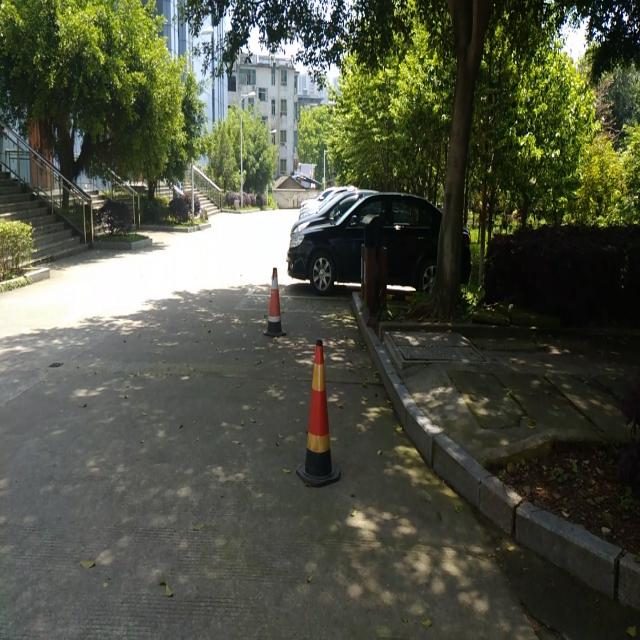ash bin: (359, 212, 389, 314)
car: (286, 192, 472, 300)
pole: (189, 165, 196, 223), (239, 125, 244, 206)
reflective_cone: (298, 341, 340, 479), (264, 267, 286, 336)
